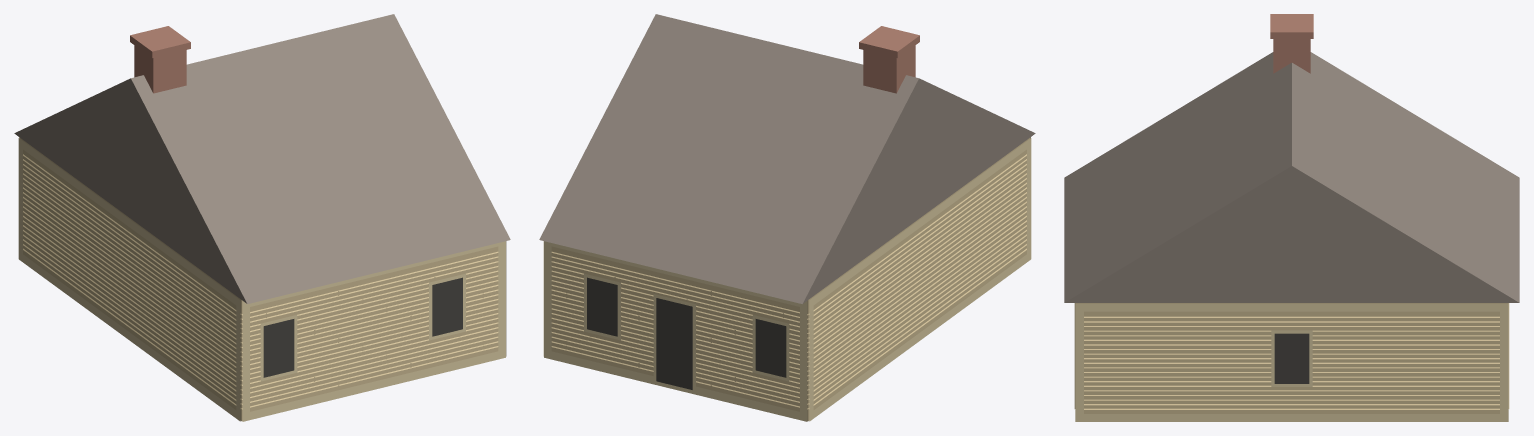
Rendered from recon_1835_blk_south_water_clark_d5_01__inferred_1835.glb.
3 views of the same model, side by side, from view 1: azimuth 30°, elevation 25°; view 2: azimuth 150°, elevation 25°; view 3: azimuth 270°, elevation 25° (orthographic). The views are drawn at different scales.
Visible parts, largest first — view 1: recon_1835_blk_south_water_clark_d5_01__inferred_1835; view 2: recon_1835_blk_south_water_clark_d5_01__inferred_1835; view 3: recon_1835_blk_south_water_clark_d5_01__inferred_1835.
Part boxes in pixels (<box>): recon_1835_blk_south_water_clark_d5_01__inferred_1835: <box>14,14,510,421</box>; recon_1835_blk_south_water_clark_d5_01__inferred_1835: <box>539,14,1035,421</box>; recon_1835_blk_south_water_clark_d5_01__inferred_1835: <box>1064,14,1519,421</box>.
Size of the model in its own units: 6.75 by 7.12 by 10.23.
